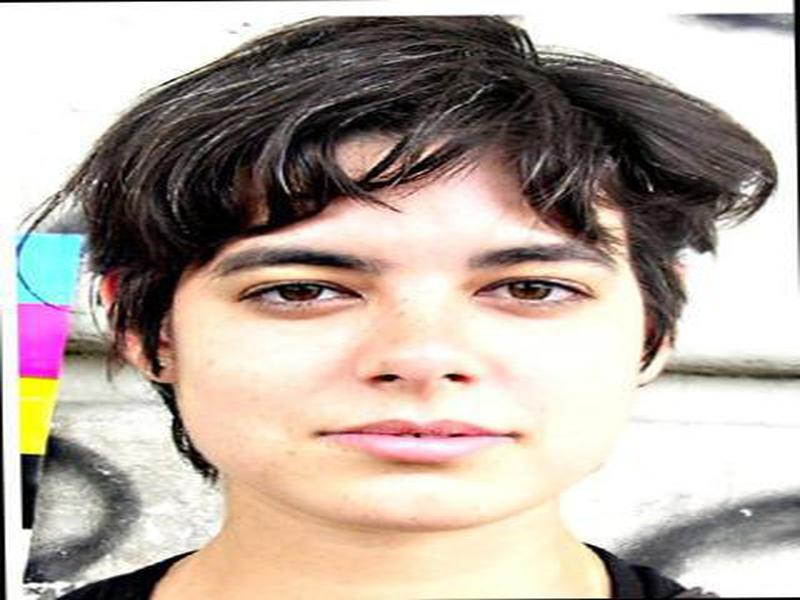without_mask: (170, 174, 648, 534)
